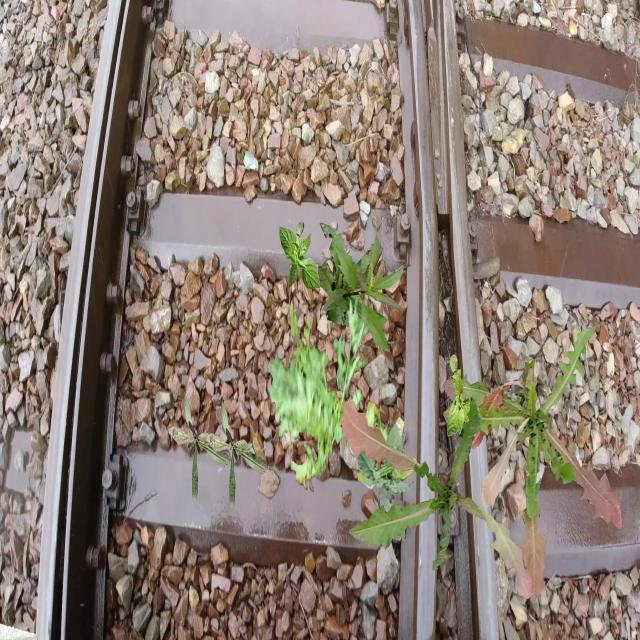Plant: (442, 326, 622, 604), (341, 397, 534, 600), (267, 297, 392, 493), (318, 223, 406, 353), (355, 417, 418, 542), (167, 389, 231, 501), (205, 396, 269, 508), (279, 221, 321, 292), (447, 354, 482, 438)
